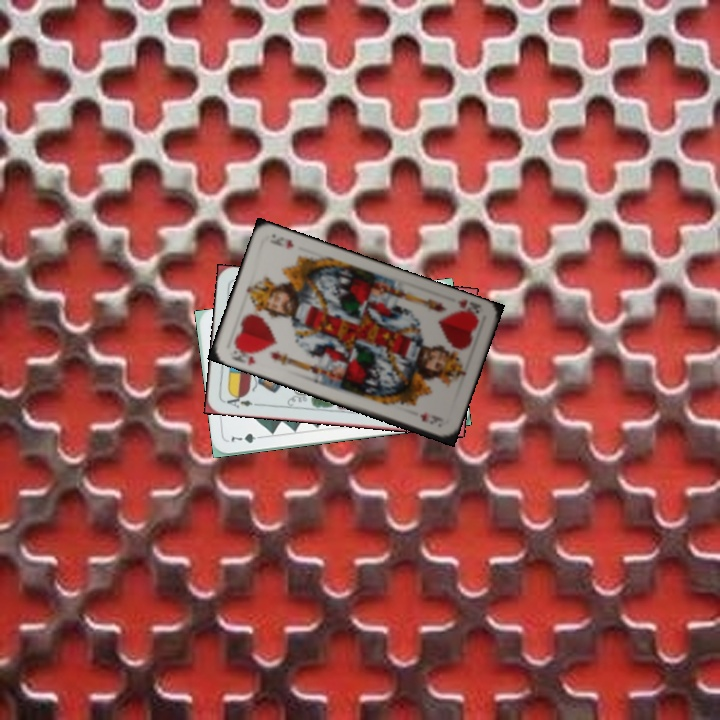EA: (223, 390, 261, 410)
G7: (227, 429, 266, 446)
HK: (450, 296, 484, 321), (227, 342, 258, 368)
